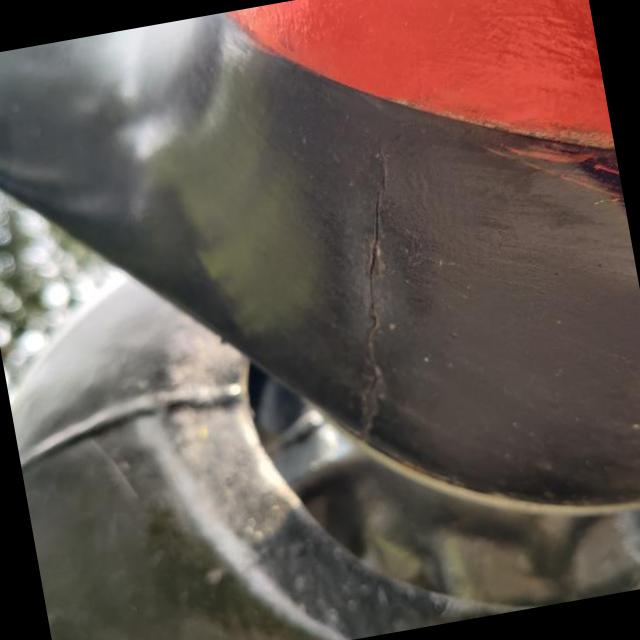Crack: (301, 131, 441, 456)
